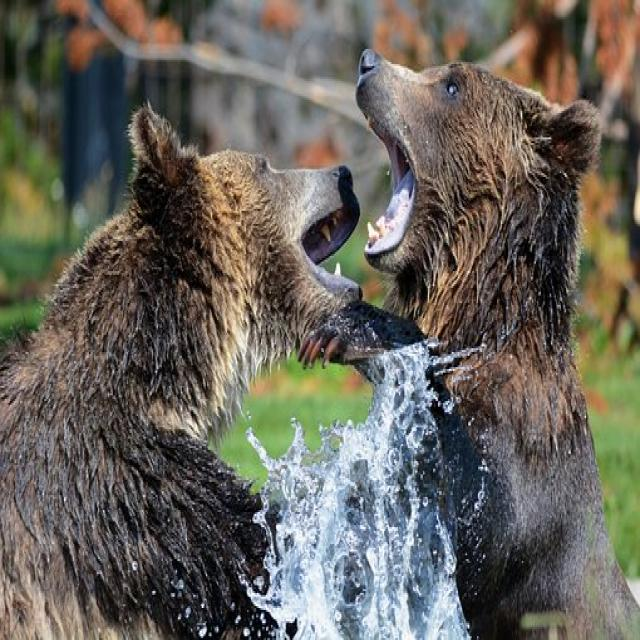Bear: (0, 105, 363, 640)
